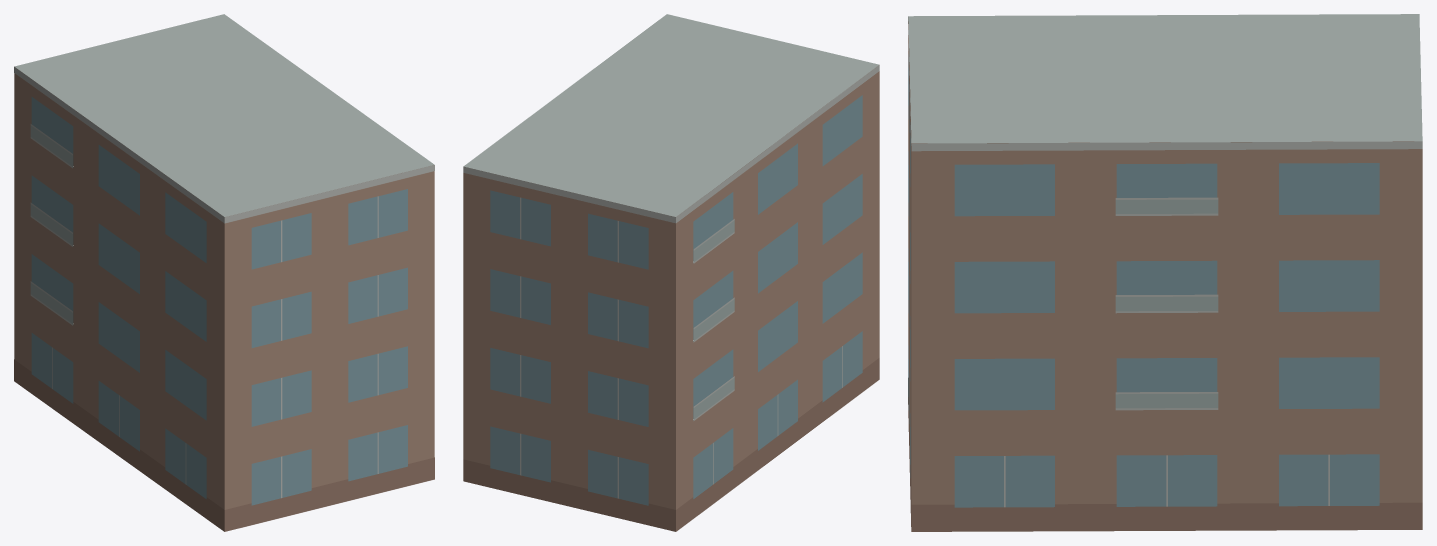
The model's file is residential-13dd3b02-5e6c-42d4-9d1d-55803ab498ea.glb.
3 renders of one model, left to right at view 1: azimuth 30°, elevation 25°; view 2: azimuth 150°, elevation 25°; view 3: azimuth 270°, elevation 25°, orthographic. The views are drawn at different scales.
Parts seen in each view (by area): view 1: residential-13dd3b02-5e6c-42d4-9d1d-55803ab498ea.tmp; view 2: residential-13dd3b02-5e6c-42d4-9d1d-55803ab498ea.tmp; view 3: residential-13dd3b02-5e6c-42d4-9d1d-55803ab498ea.tmp.
Part boxes in pixels (x1,y1,x2,y2): residential-13dd3b02-5e6c-42d4-9d1d-55803ab498ea.tmp: (14,14,434,531); residential-13dd3b02-5e6c-42d4-9d1d-55803ab498ea.tmp: (463,14,879,531); residential-13dd3b02-5e6c-42d4-9d1d-55803ab498ea.tmp: (908,14,1422,531).
Bounding box in the file's own units: 8.75 × 12.2 × 14.65.
